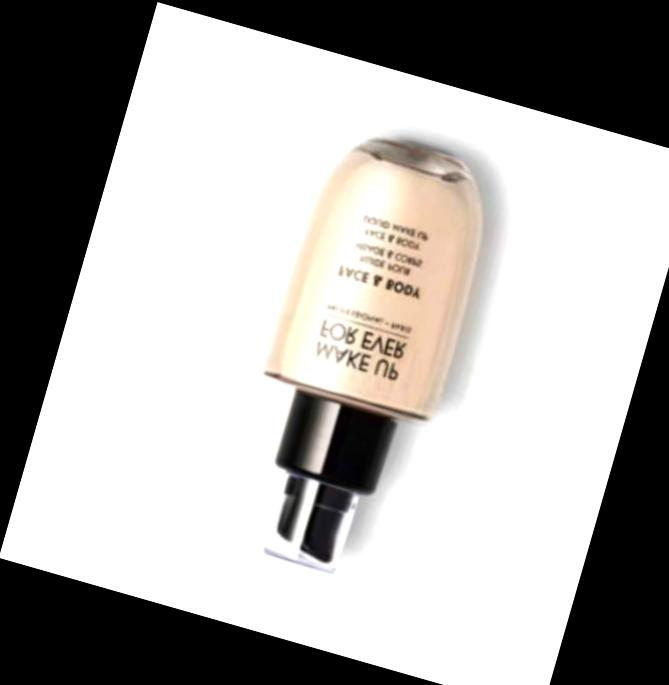cosmetic: (213, 119, 508, 591)
